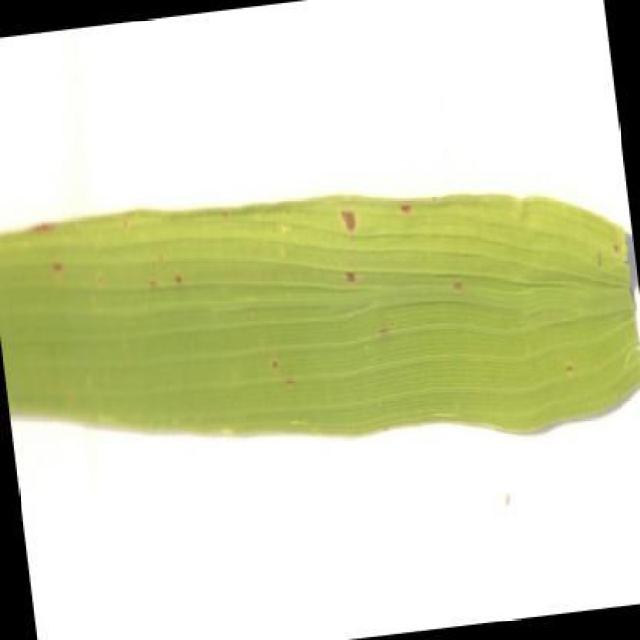Leaf_Blast: (330, 202, 368, 304), (144, 240, 190, 303), (28, 202, 67, 264), (558, 342, 588, 389), (46, 242, 69, 292), (395, 198, 422, 240), (374, 301, 395, 354), (448, 273, 472, 309)
